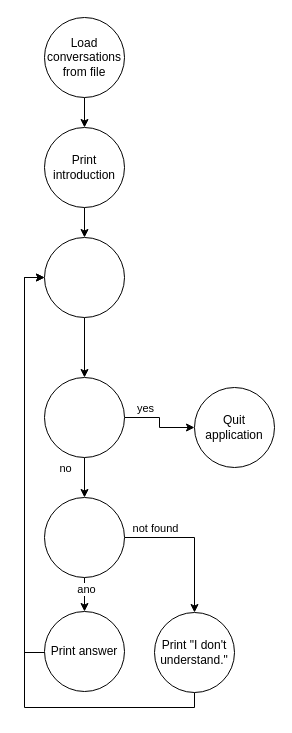
This 292x733 diagram has some shape labels left out. The shapes that lost their labels are listed below. From the top down, each one's centre as x and y in pixels, then its label:
(84,277): Load user question
(84,417): Is question "end"?
(84,537): Find answer in database
